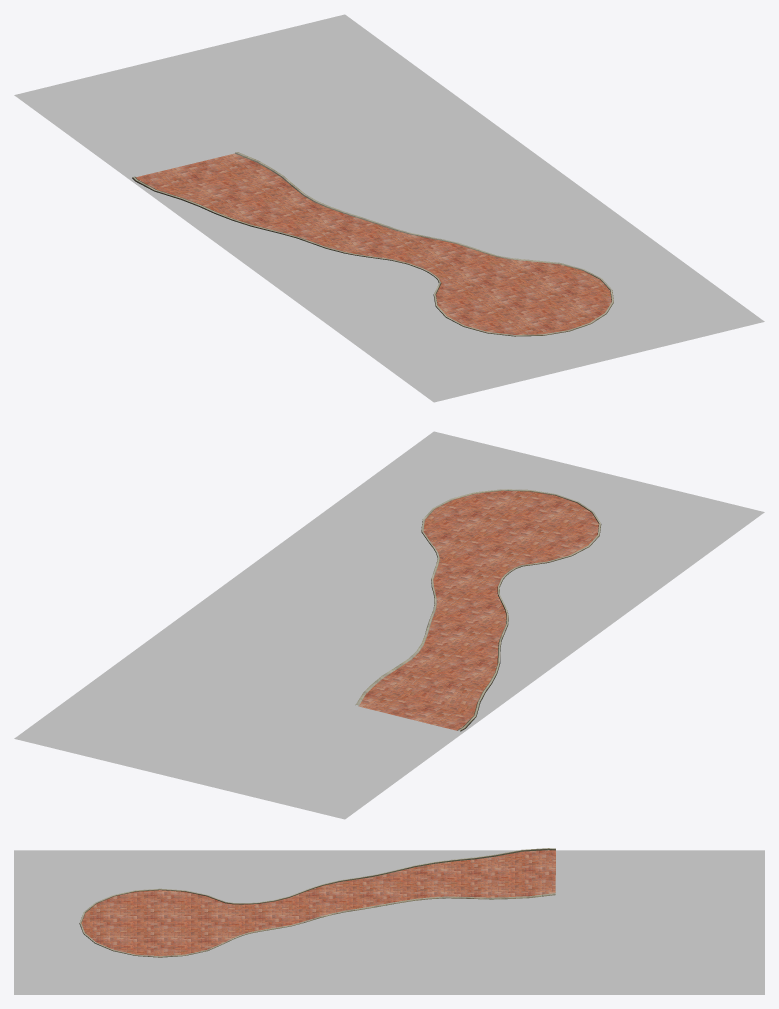
File: ParkPath.obj
The picture shows the model from 3 angles, top to bottom: view 1: azimuth 30°, elevation 25°; view 2: azimuth 150°, elevation 25°; view 3: azimuth 270°, elevation 25°; orthographic projection. The views are drawn at different scales.
Visible parts, largest first — view 1: Plane.002, ct2_02_n1_ks2_ground_000.002; view 2: Plane.002, ct2_02_n1_ks2_ground_000.002; view 3: Plane.002, ct2_02_n1_ks2_ground_000.002.
Boxes of the visible parts, x1,y1,x2,y2 form: Plane.002: [14, 14, 764, 402]; ct2_02_n1_ks2_ground_000.002: [132, 152, 613, 336]; Plane.002: [14, 431, 764, 819]; ct2_02_n1_ks2_ground_000.002: [355, 489, 601, 731]; Plane.002: [14, 850, 764, 994]; ct2_02_n1_ks2_ground_000.002: [79, 848, 555, 957].
Bounding box in the file's own units: 15.2 × 0.1376 × 33.4.
